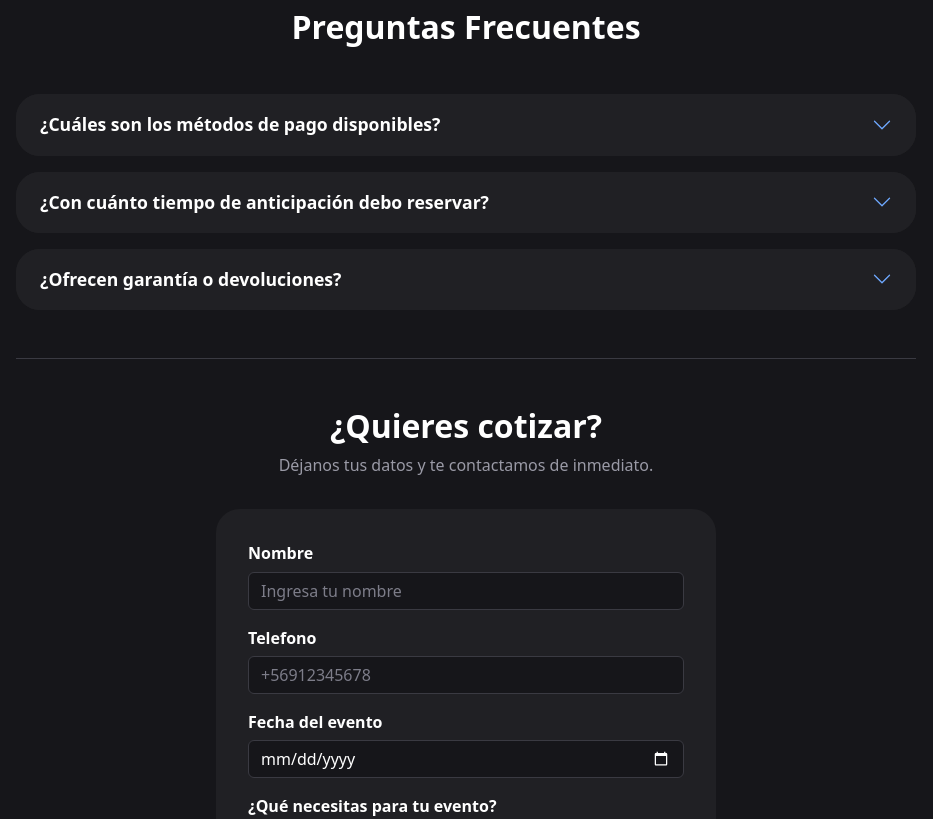
Test: FaqCotizacion (page) › al hacer click en una pregunta se abre su respuesta, y el formulario de cotización está presente
The image size is (933, 819).
Click the button "¿Cuáles son los métodos de pago disponibles?": (240, 124) [16,94,916,156]
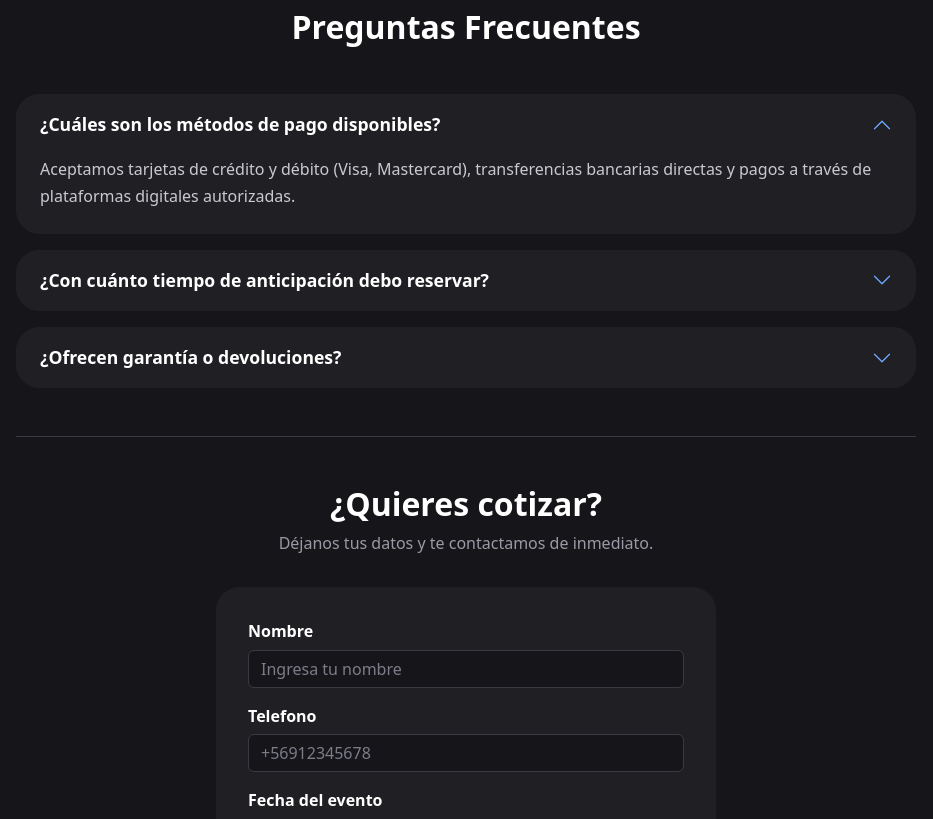
Check: the heading "¿Quieres cotizar?" is shown, box [330,482,602,525]
Check: the button "¿Cuáles son los métodos de pago disponibles?" is expanded, box [16,94,916,156]
